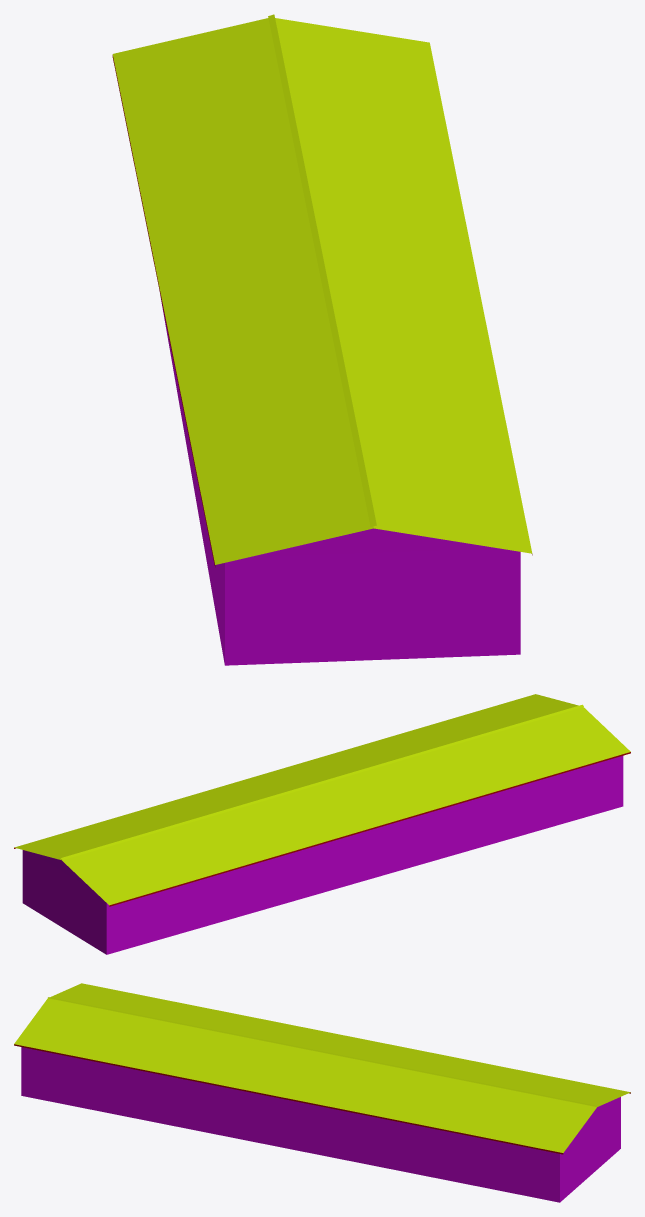
File: sdt_12.glb
3 views of the same model, one above another, from view 1: azimuth 30°, elevation 25°; view 2: azimuth 150°, elevation 25°; view 3: azimuth 270°, elevation 25° (orthographic). The views are drawn at different scales.
Parts seen in each view (by area): view 1: sdt_12; view 2: sdt_12; view 3: sdt_12.
Boxes of the visible parts, bbox=[...] form: sdt_12: bbox=[112, 14, 532, 665]; sdt_12: bbox=[14, 694, 630, 954]; sdt_12: bbox=[14, 983, 630, 1202].
Size of the model in its own units: 30.28 by 5.79 by 46.47.
